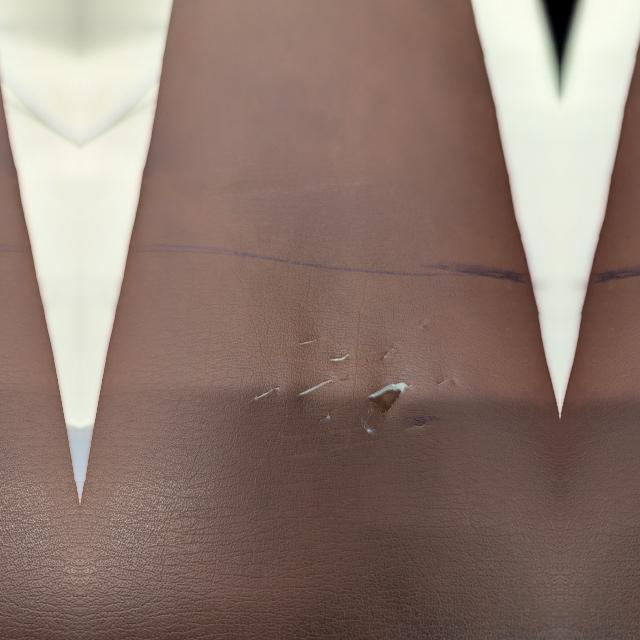belt_crack: (259, 302, 528, 450), (592, 302, 640, 450)
